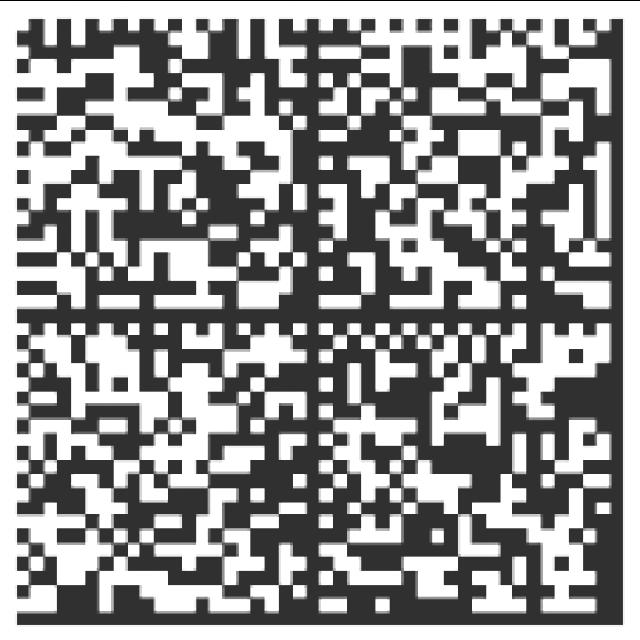DataMatrix: (9, 9, 637, 635)
